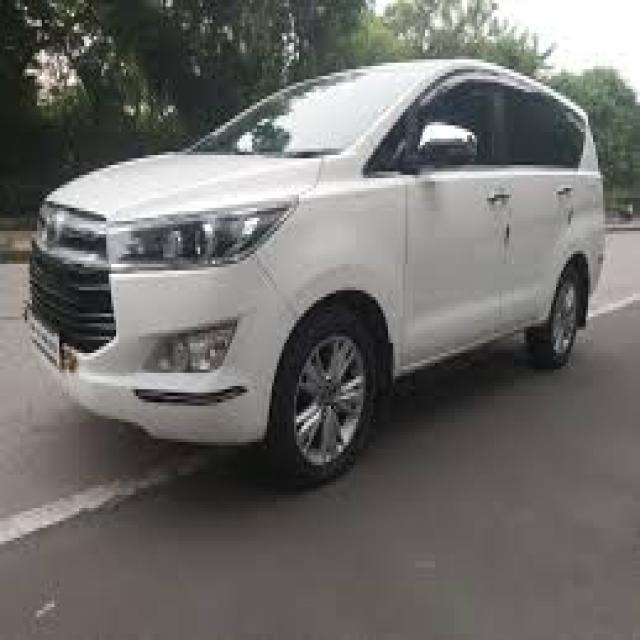Car: (25, 60, 604, 481)
